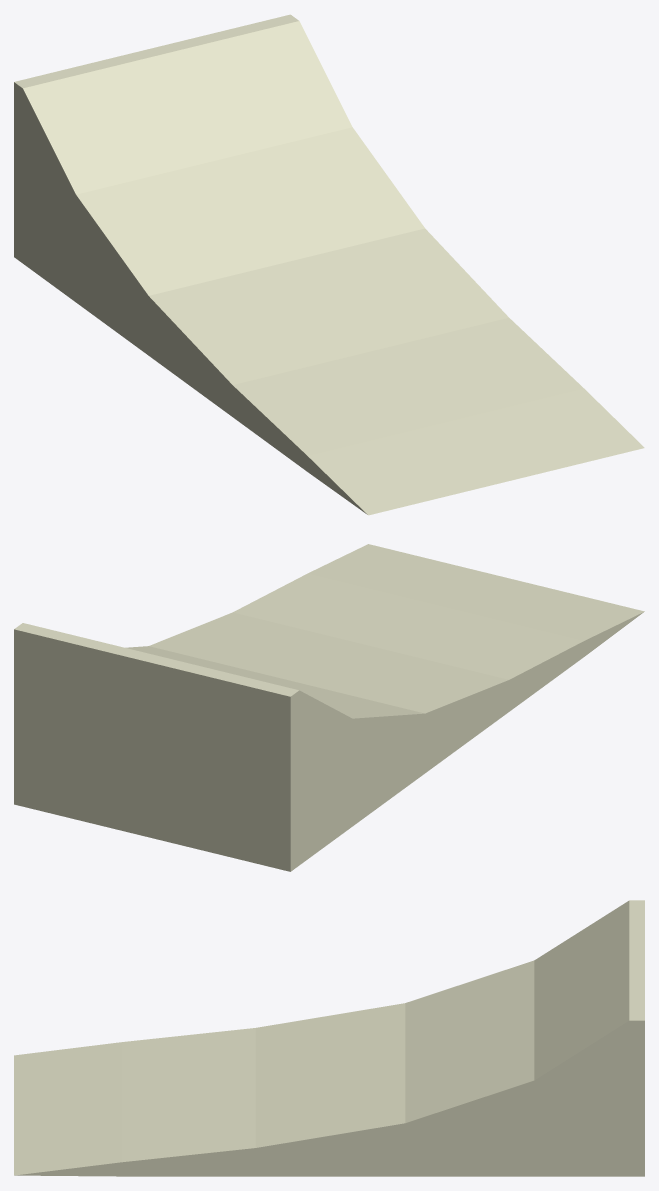
Rendered from ramp2.dae.
3 renders of one model, top to bottom at view 1: azimuth 30°, elevation 25°; view 2: azimuth 150°, elevation 25°; view 3: azimuth 270°, elevation 25°, orthographic. The views are drawn at different scales.
Parts seen in each view (by area): view 1: SketchUp; view 2: SketchUp; view 3: SketchUp.
Boxes of the visible parts, bbox=[...] form: SketchUp: bbox=[14, 14, 644, 515]; SketchUp: bbox=[14, 544, 644, 871]; SketchUp: bbox=[14, 900, 644, 1176].
Size of the model in its own units: 107 by 237 by 64.57.
